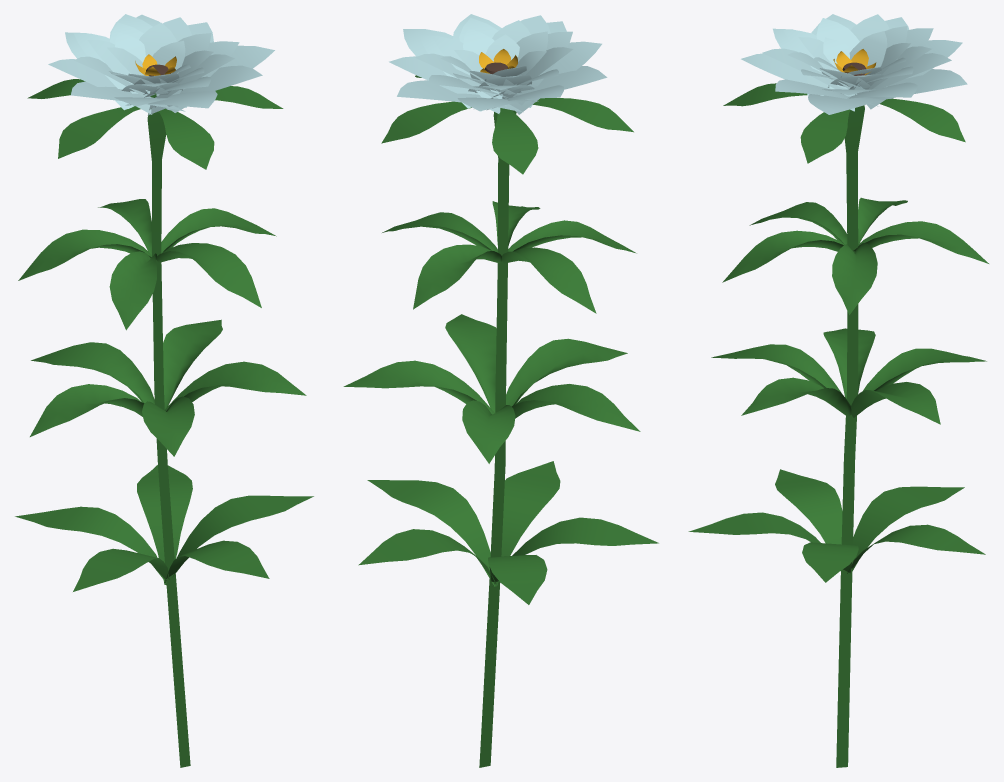
Rendered from plant_lotus_flower_D.fbx.
3 renders of one model, left to right at view 1: azimuth 30°, elevation 25°; view 2: azimuth 150°, elevation 25°; view 3: azimuth 270°, elevation 25°, orthographic. The views are drawn at different scales.
Visible parts, largest first — view 1: lotus_flower_D_leaves, lotus_flower_D, lotus_flower_D_twig, lotus_flower_D_top_leaf; view 2: lotus_flower_D_leaves, lotus_flower_D, lotus_flower_D_twig, lotus_flower_D_top_leaf; view 3: lotus_flower_D_leaves, lotus_flower_D, lotus_flower_D_twig, lotus_flower_D_top_leaf.
Part boxes in pixels (x1=…): lotus_flower_D_leaves: x1=15, y1=199, x2=313, y2=591; lotus_flower_D: x1=48, y1=14, x2=274, y2=115; lotus_flower_D_twig: x1=147, y1=93, x2=190, y2=767; lotus_flower_D_top_leaf: x1=27, y1=79, x2=283, y2=169; lotus_flower_D_leaves: x1=343, y1=201, x2=658, y2=604; lotus_flower_D: x1=389, y1=14, x2=607, y2=114; lotus_flower_D_twig: x1=479, y1=110, x2=516, y2=767; lotus_flower_D_top_leaf: x1=381, y1=75, x2=633, y2=174; lotus_flower_D_leaves: x1=688, y1=197, x2=988, y2=582; lotus_flower_D: x1=741, y1=14, x2=967, y2=114; lotus_flower_D_twig: x1=836, y1=105, x2=864, y2=767; lotus_flower_D_top_leaf: x1=723, y1=83, x2=965, y2=163.
Bounding box in the file's own units: 45.06 × 111 × 42.82.
